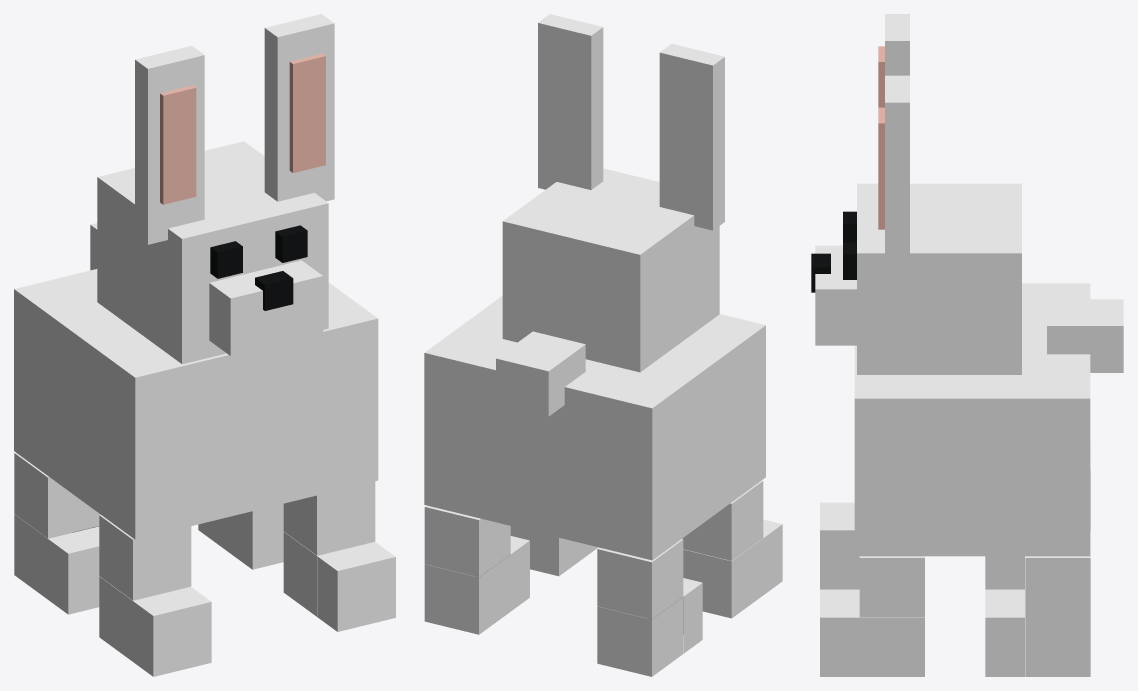
3 renders of one model, left to right at view 1: azimuth 30°, elevation 25°; view 2: azimuth 150°, elevation 25°; view 3: azimuth 270°, elevation 25°, orthographic. The views are drawn at different scales.
Visible parts, largest first — view 1: Rabbit; view 2: Rabbit; view 3: Rabbit.
Boxes of the visible parts, bbox=[...] form: Rabbit: bbox=[14, 14, 395, 676]; Rabbit: bbox=[424, 14, 782, 676]; Rabbit: bbox=[811, 14, 1123, 676].
Size of the model in its own units: 0.9666 by 2.19 by 1.11.
1 material, 1 textured.
